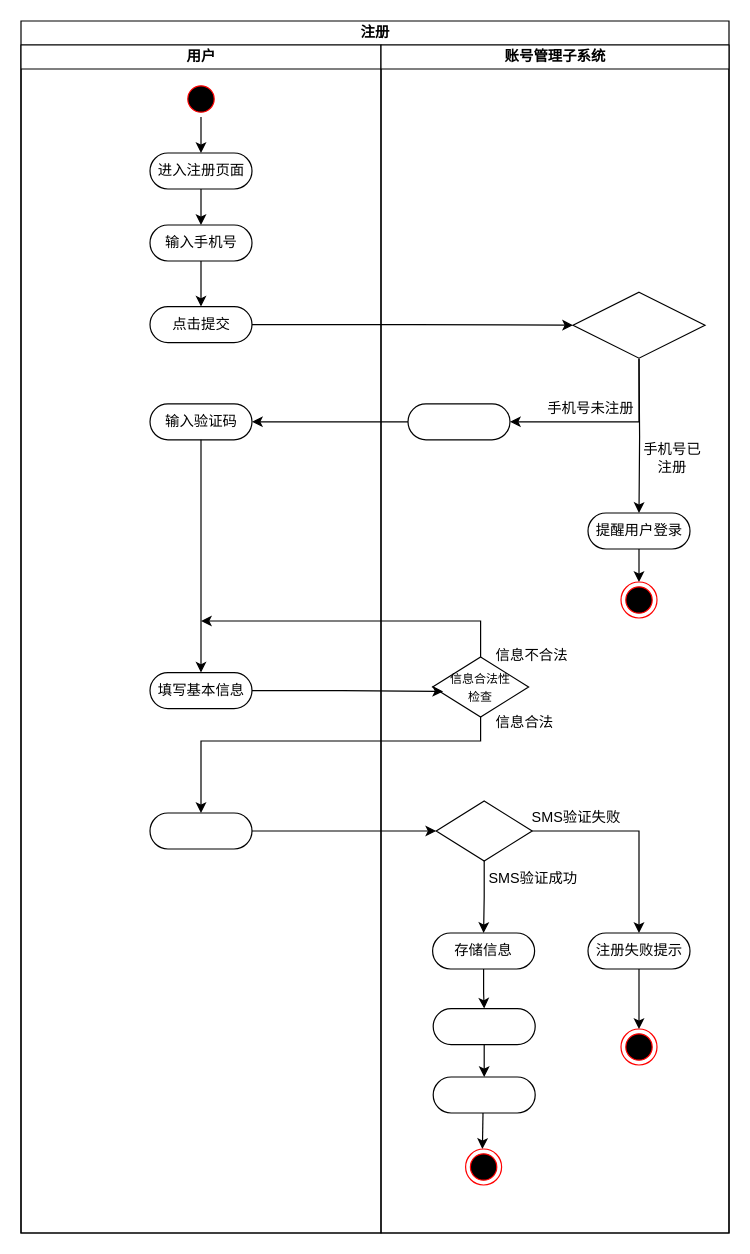
The diagram is 750 pixels wide and 1254 high, and some of its shapes have lost their labels. Here are the shapes that lost their labels. From the top down, the box of each, then its label:
(572, 291, 705, 358): 手机号是否已注册
(407, 403, 510, 440): 发送手机验证码
(149, 812, 252, 849): 提交信息
(435, 800, 532, 861): SMS验证
(432, 1007, 535, 1045): 成功注册提示
(432, 1076, 535, 1113): 跳转到 主页面
